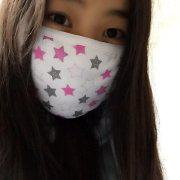OK: (25, 6, 130, 111)
